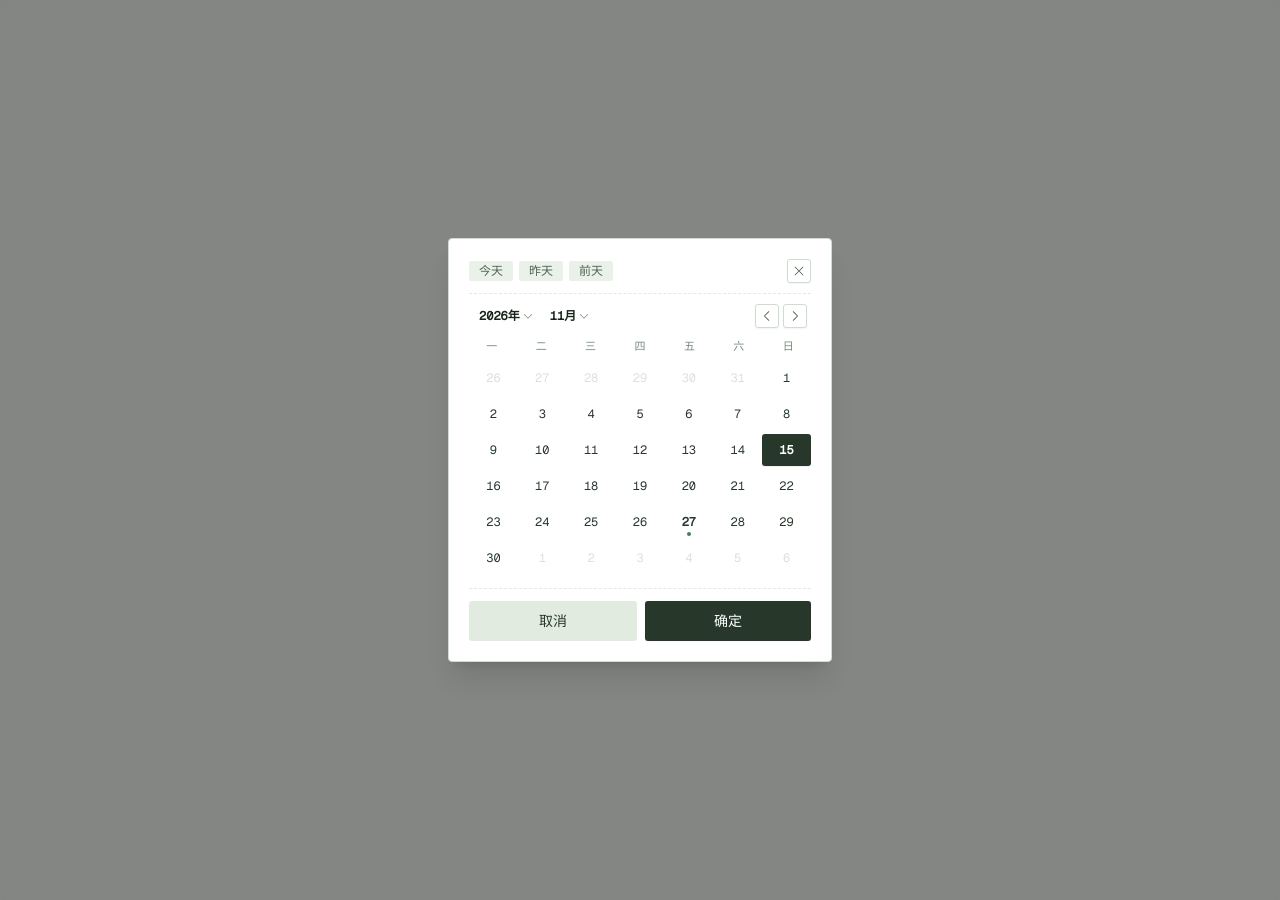
Test case: PaperDatePickerModal › allows clicking year and month in header to switch views and select year/month
The width and height of the screenshot is (1280, 900).
Later steps or results of the test are not shown.
Note: Click year header to open year selector
Click the button titled "点击选择年份". click: click(506, 316)
box: [473,306,540,326]
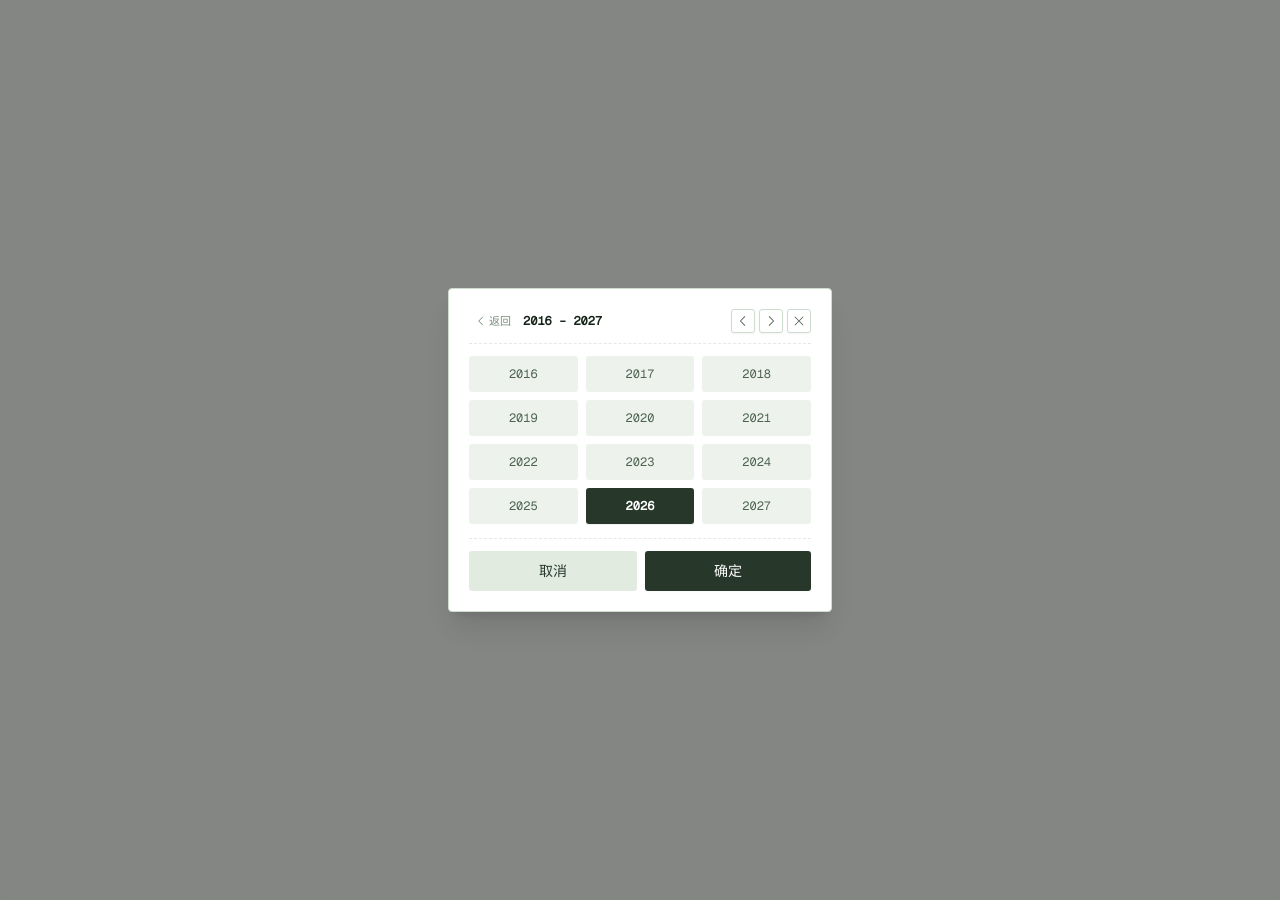
Note: Pick 2025
Click the button "2025". click: click(523, 506)
box: [469,488,578,524]
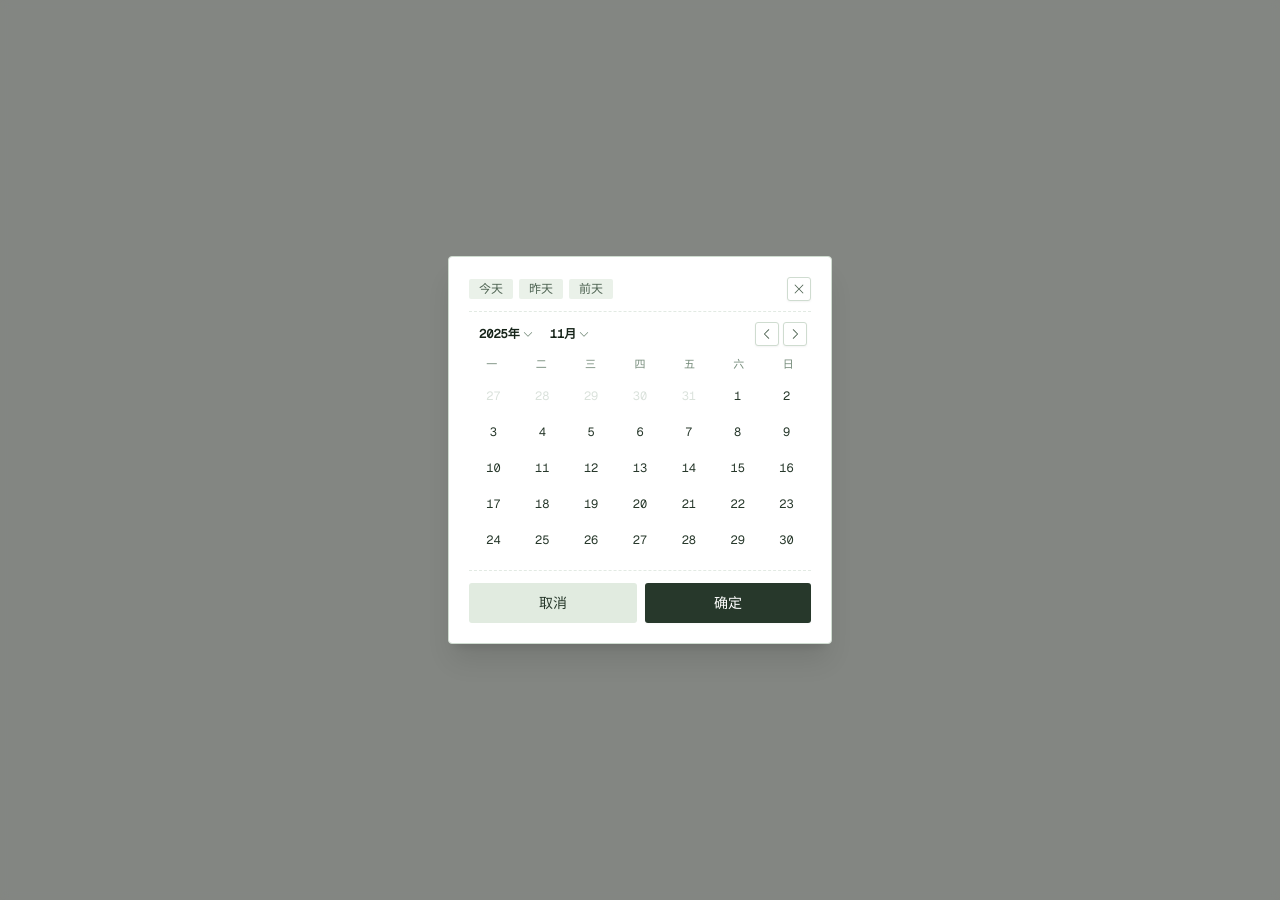
Now the text "2025年" is shown, box [479,326,520,342]
Note: Click month header to open month selector
Click the button titled "点击选择月份". click: click(570, 334)
box: [544,324,596,344]
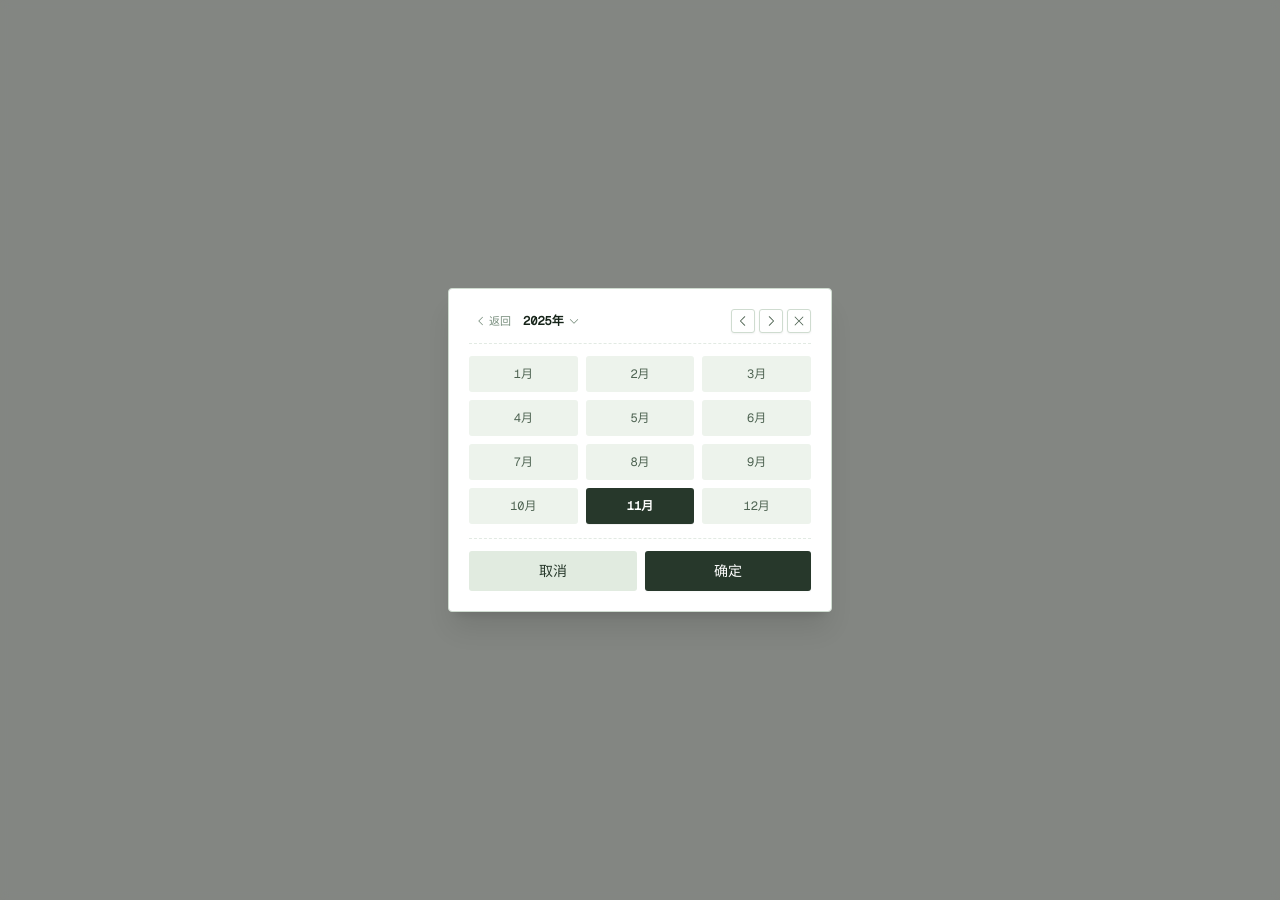
Note:  Pick 3月
Click the button "3月". click: click(757, 374)
box: [702,356,811,392]
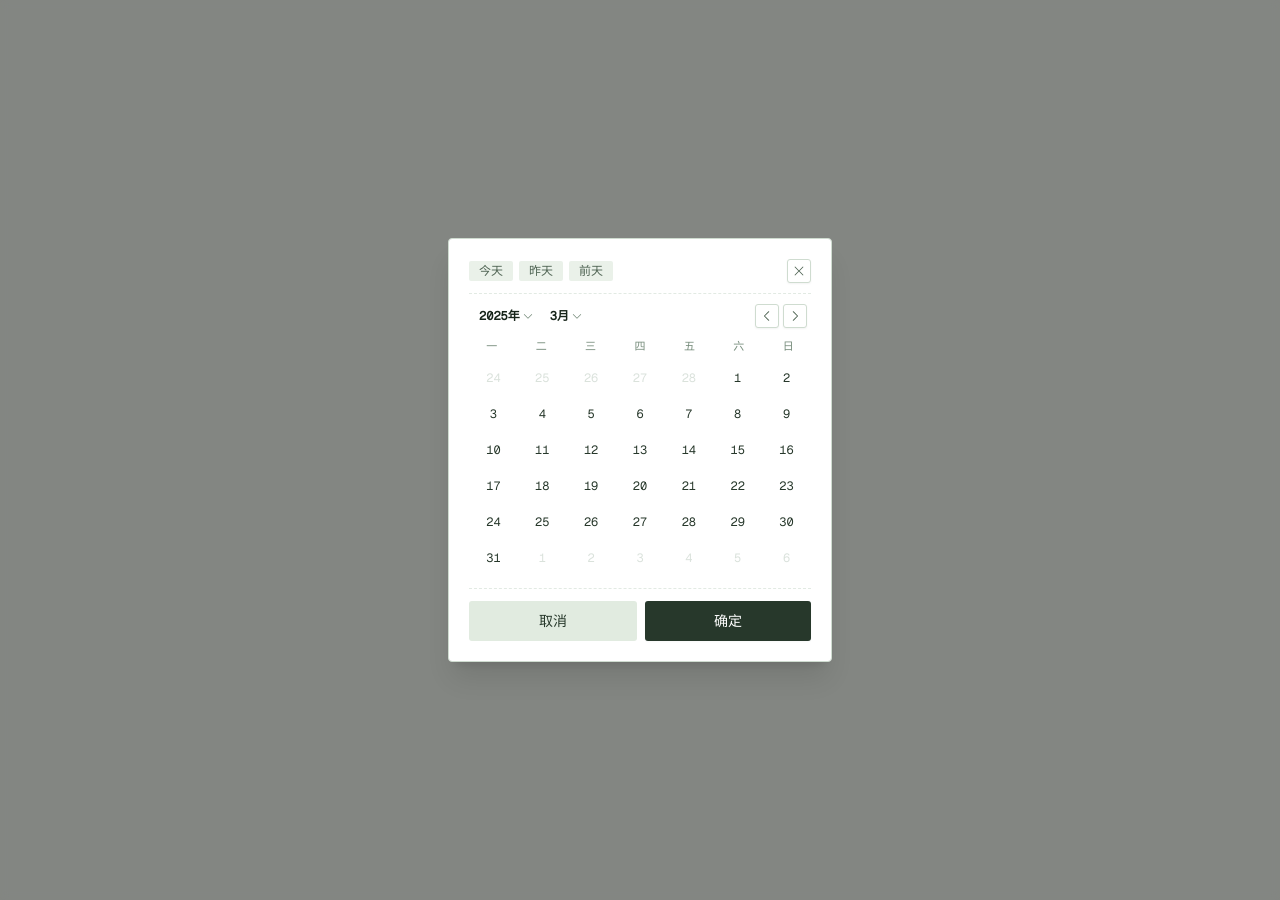
Now the text "3月" is shown, box [550,308,569,324]
